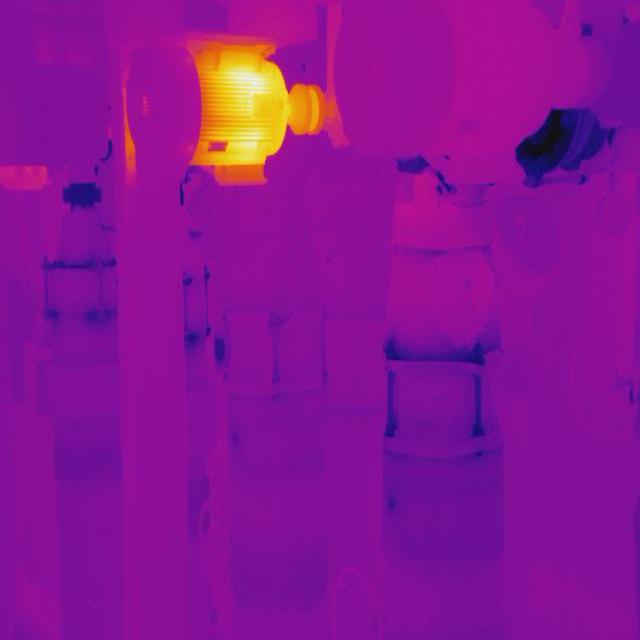leakage: (509, 104, 624, 194)
